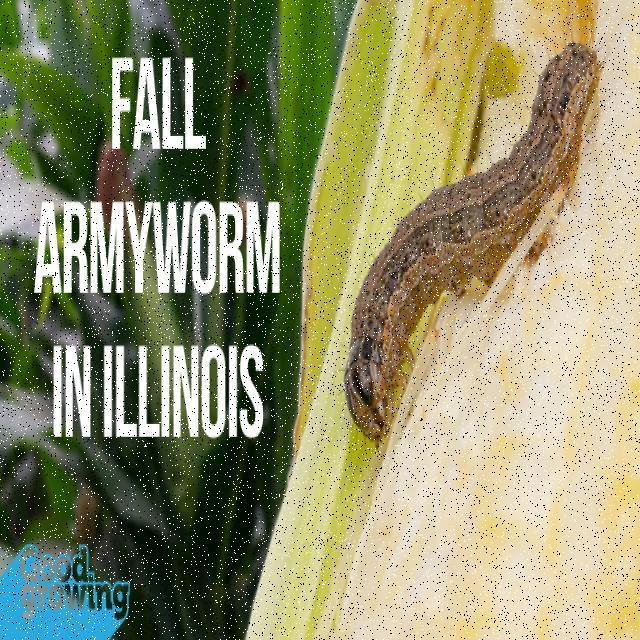army worm: (323, 43, 625, 483)
